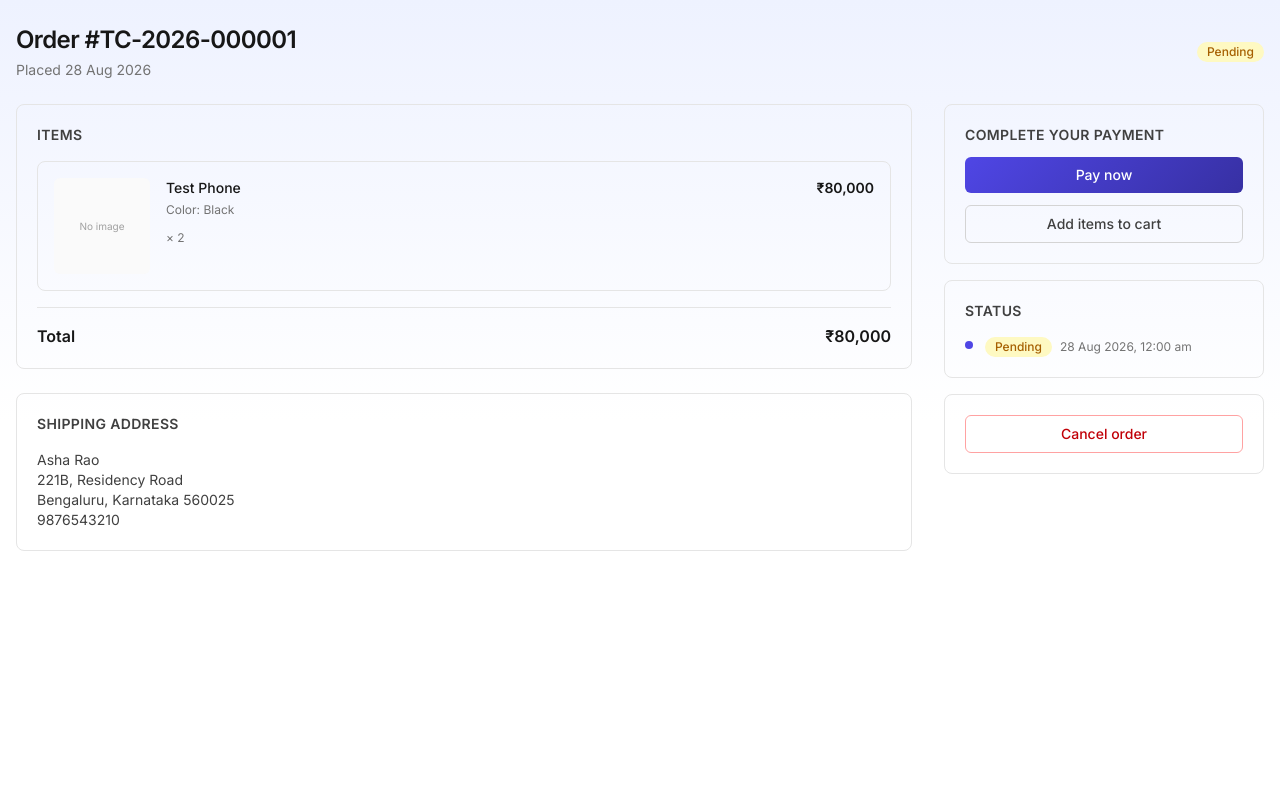
it: Order detail › shows the cancel button for a pending_payment order and cancelling updates the view
Click the button "Cancel order".
click(1104, 434)  # box [965,415,1243,453]
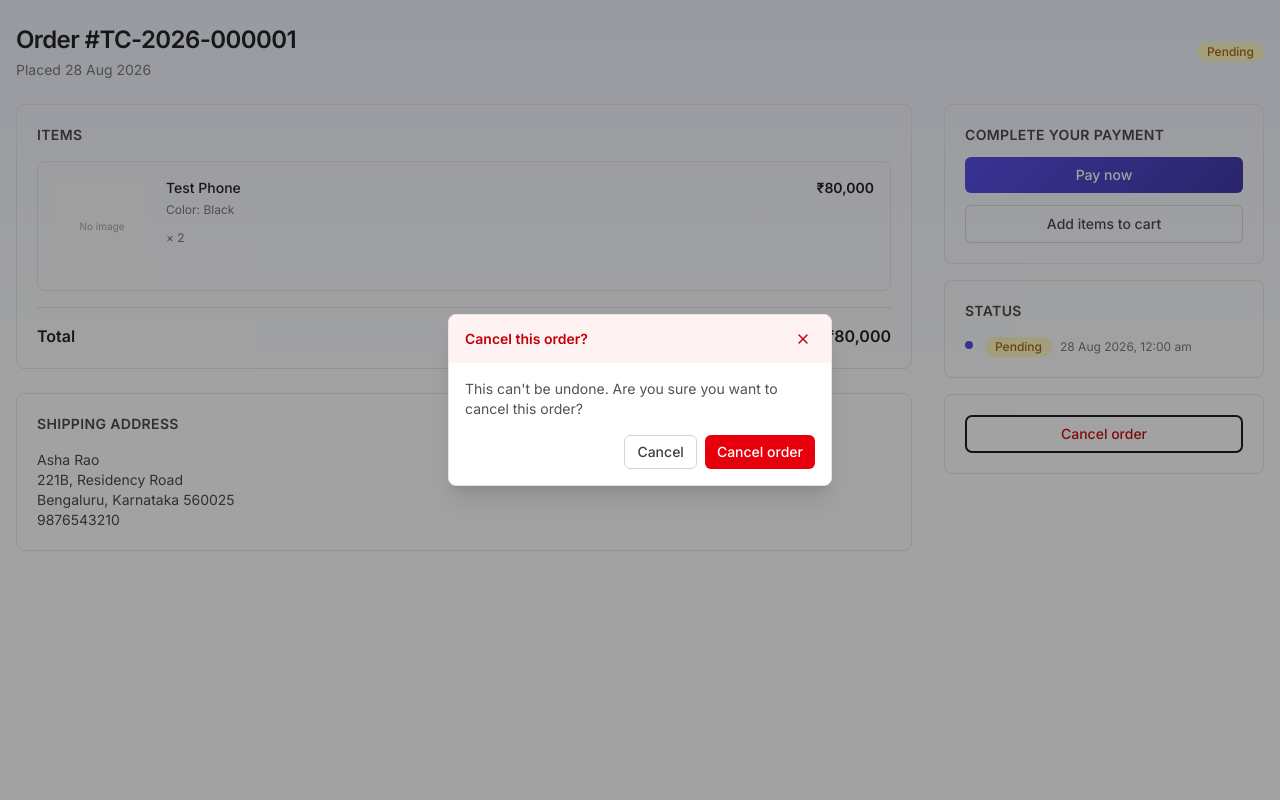
Click the button "Cancel order".
click(760, 452)  # box [705,435,815,469]
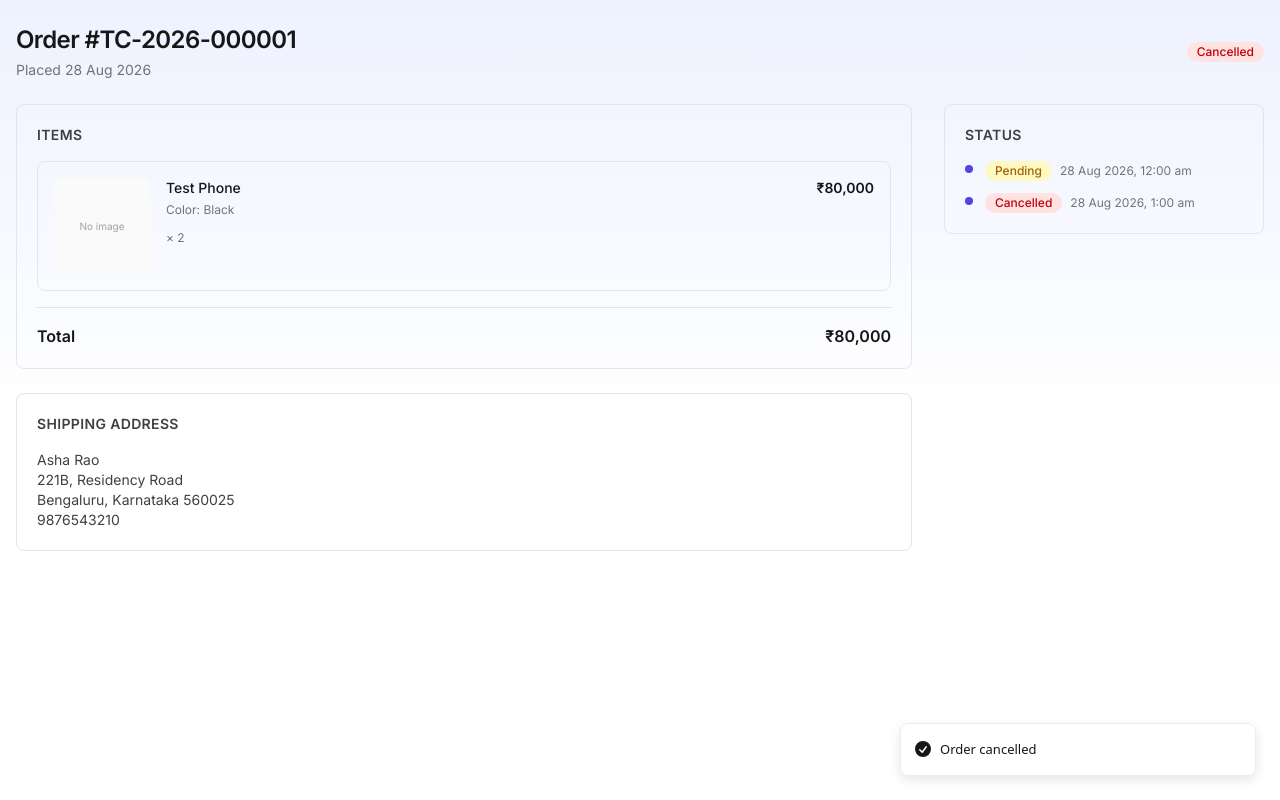
Expected: the text "Cancelled" in the row of "TC-2026-000001" is shown, [1197,44,1254,59]
Expected: the button "Cancel order" is gone
